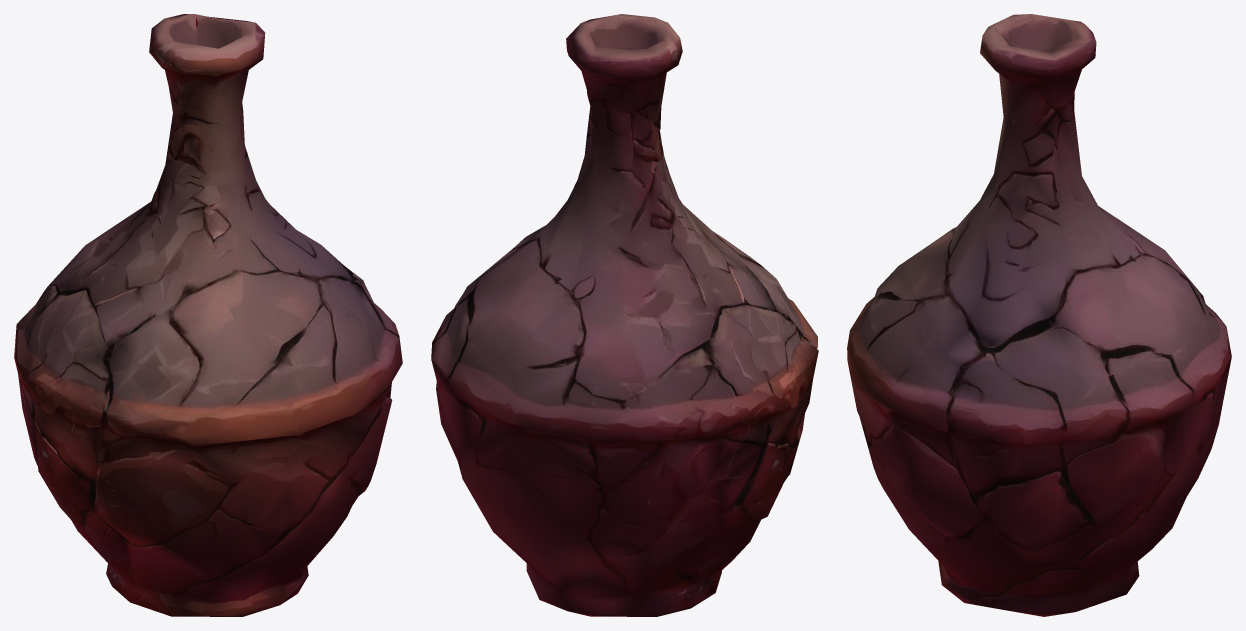
File: urn.glb
3 renders of one model, left to right at view 1: azimuth 30°, elevation 25°; view 2: azimuth 150°, elevation 25°; view 3: azimuth 270°, elevation 25°, orthographic.
Parts seen in each view (by area): view 1: tripo_node_f8f89f06-8694-4979-8856-c020bdb42c52; view 2: tripo_node_f8f89f06-8694-4979-8856-c020bdb42c52; view 3: tripo_node_f8f89f06-8694-4979-8856-c020bdb42c52.
Boxes of the visible parts, <box> form: tripo_node_f8f89f06-8694-4979-8856-c020bdb42c52: <box>14,14,402,616</box>; tripo_node_f8f89f06-8694-4979-8856-c020bdb42c52: <box>431,14,818,616</box>; tripo_node_f8f89f06-8694-4979-8856-c020bdb42c52: <box>847,14,1231,616</box>.
Size of the model in its own units: 0.6383 by 0.9999 by 0.6394.
Materials: 1 (1 with a texture image).
